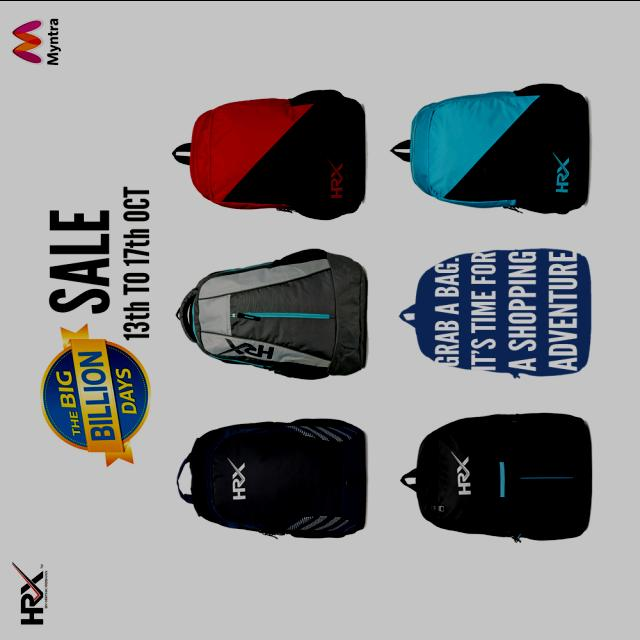backpack: (391, 84, 590, 216), (173, 90, 367, 221), (177, 249, 369, 381), (401, 413, 593, 543), (177, 419, 367, 540)
